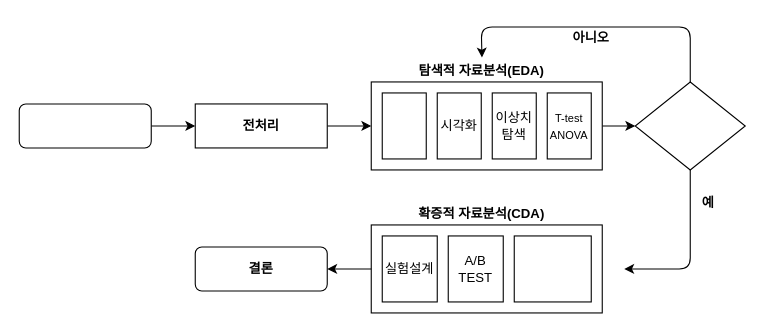
Some shapes in this 765 by 332 pixel diagram are drawn without their labels. Each missing label, with the centre of its shape:
Chi-square test ANOVA: pixel 552 268
가설도출: pixel 689 125
온라인 쇼핑몰 데이터: pixel 84 125
통계 요약: pixel 403 125
